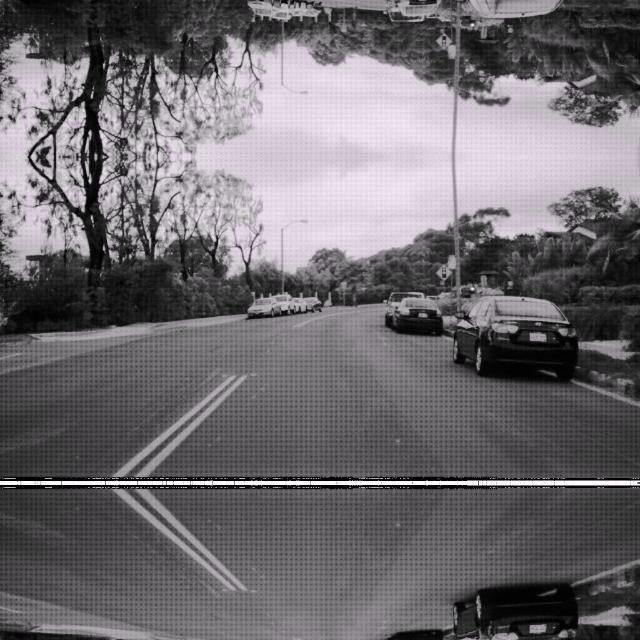signalAhead: (434, 262, 452, 280), (434, 32, 452, 50)
